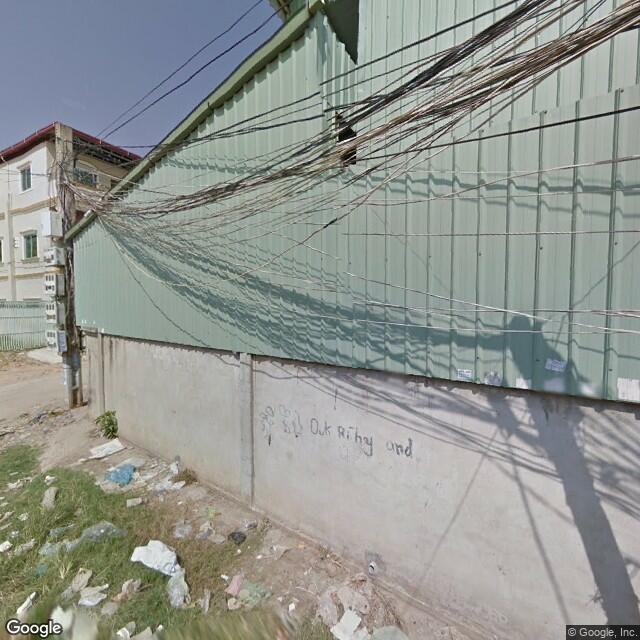litter: (132, 525, 207, 610), (63, 564, 114, 616), (99, 456, 139, 494), (84, 425, 126, 459), (5, 589, 47, 621), (4, 531, 27, 567), (6, 471, 38, 496)
